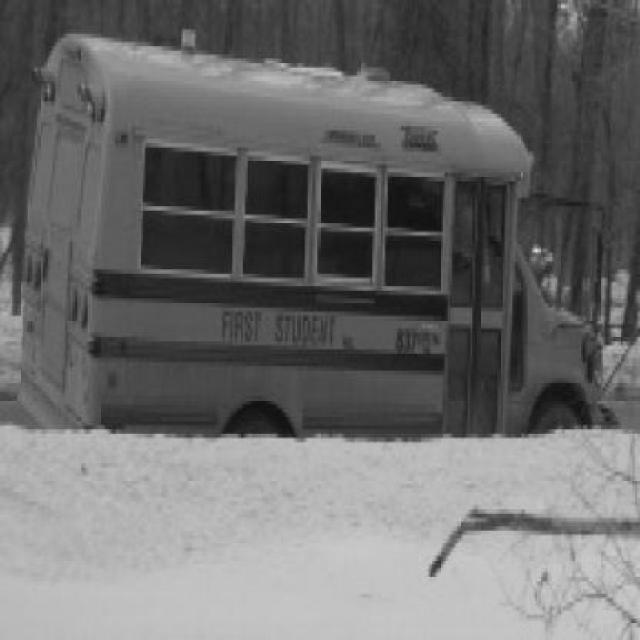Bus- Small: (16, 33, 605, 441)
